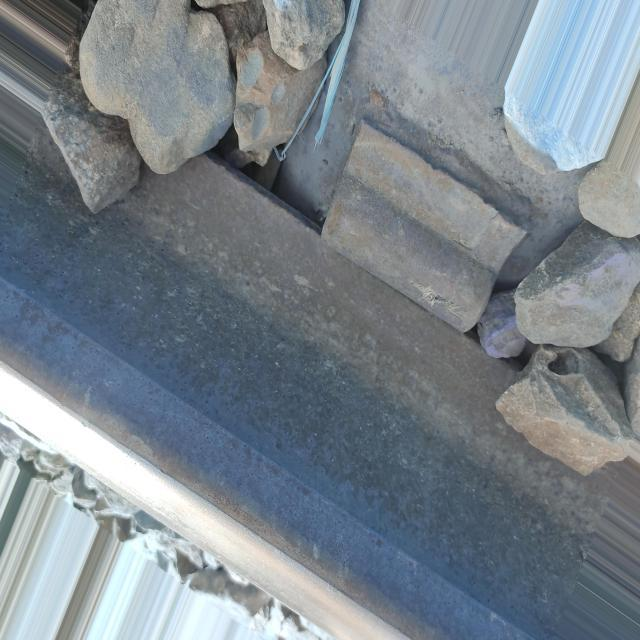Missing Fastener: (314, 82, 543, 336)
